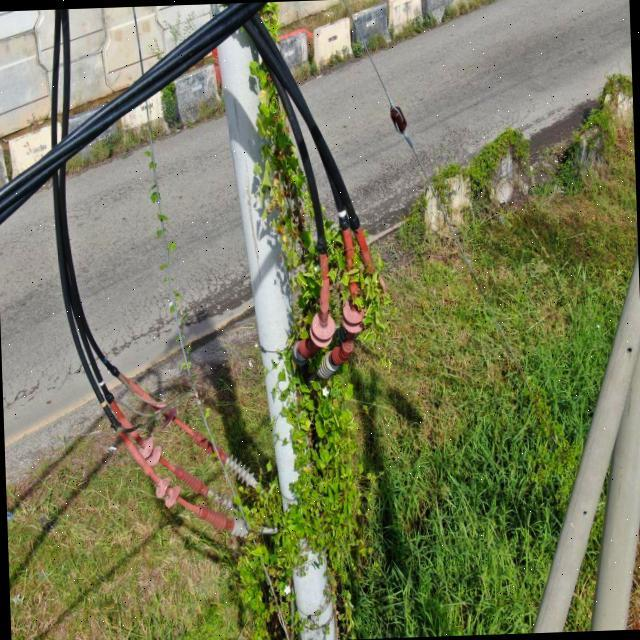critical vegetation: (214, 0, 411, 569)
